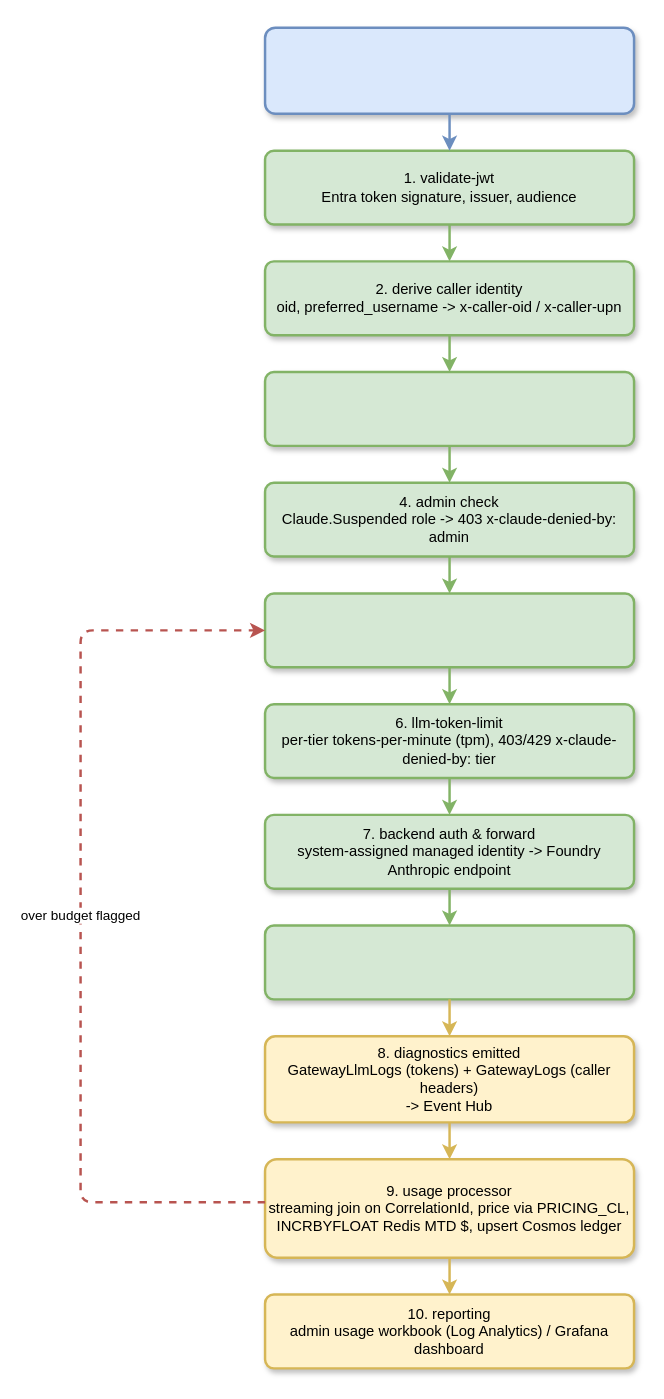
The diagram is 664 pixels wide and 1399 high, and some of its shapes have lost their labels. The shapes that lost their labels are listed below. From the top down, each one's centre as x and y in pixels, then its label:
At [450,72]: "Client request (Claude Code / Desktop / cURL) ****** ID token".
At [450,410]: "3. derive tier roles claim -> Claude.Tier.Pro/Basic/Lite, fallback lite".
At [450,631]: "5. budget check (fail-open) GET budget-api /v1/budget/{oid} -> 402 = over budget".
At [450,964]: "Microsoft Foundry Claude model response".
